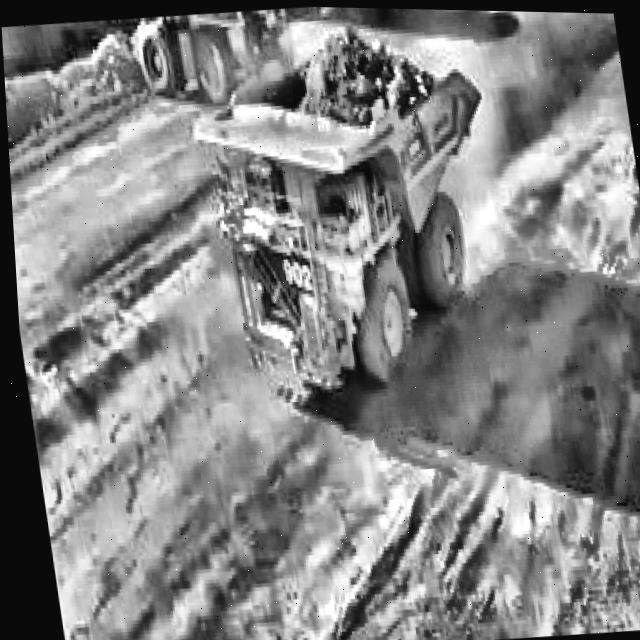dump_truck: (199, 30, 516, 391), (121, 6, 270, 85)
